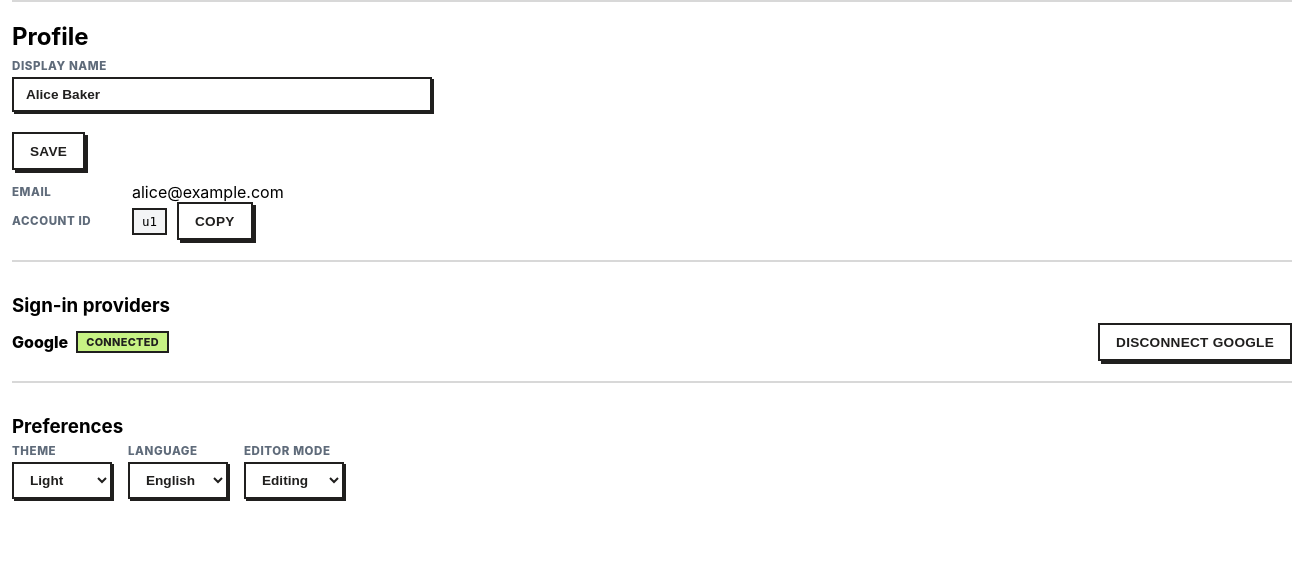
Test: ProfileSection › explains a refused disconnect of the last sign-in method
What coordinates should you click on to do the following:
click the button "Disconnect Google"
I would click on:
 (1195, 342)
Its box is top-left (1098, 323), bottom-right (1292, 361).
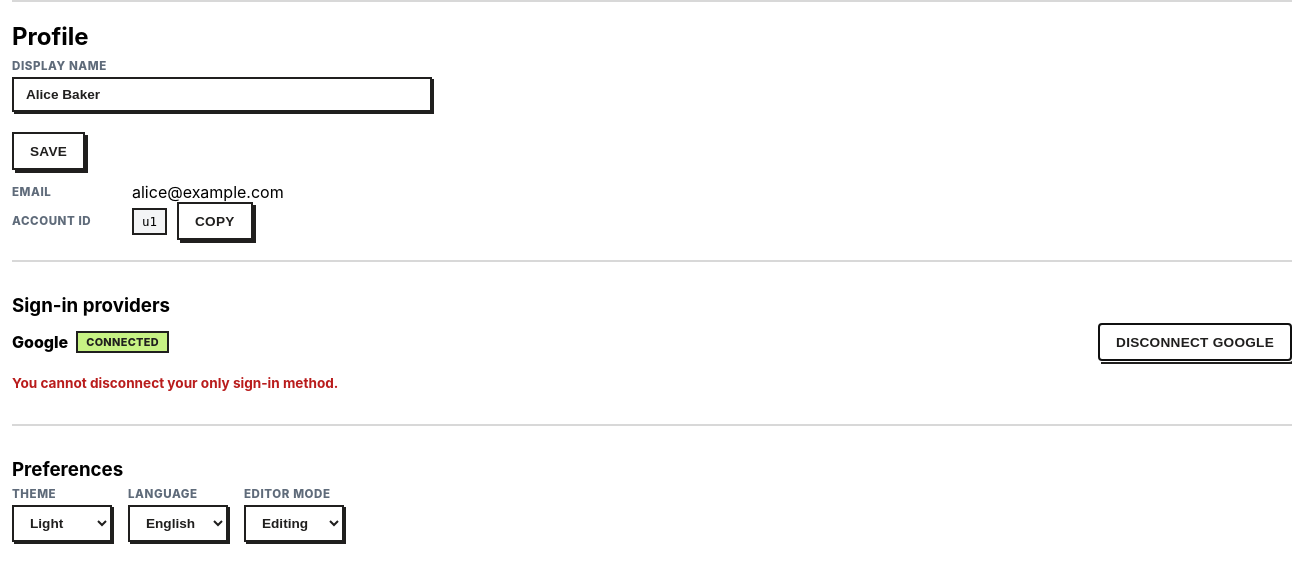
Result: the message shows "only sign-in method" at top-left (12, 375), bottom-right (338, 391)
